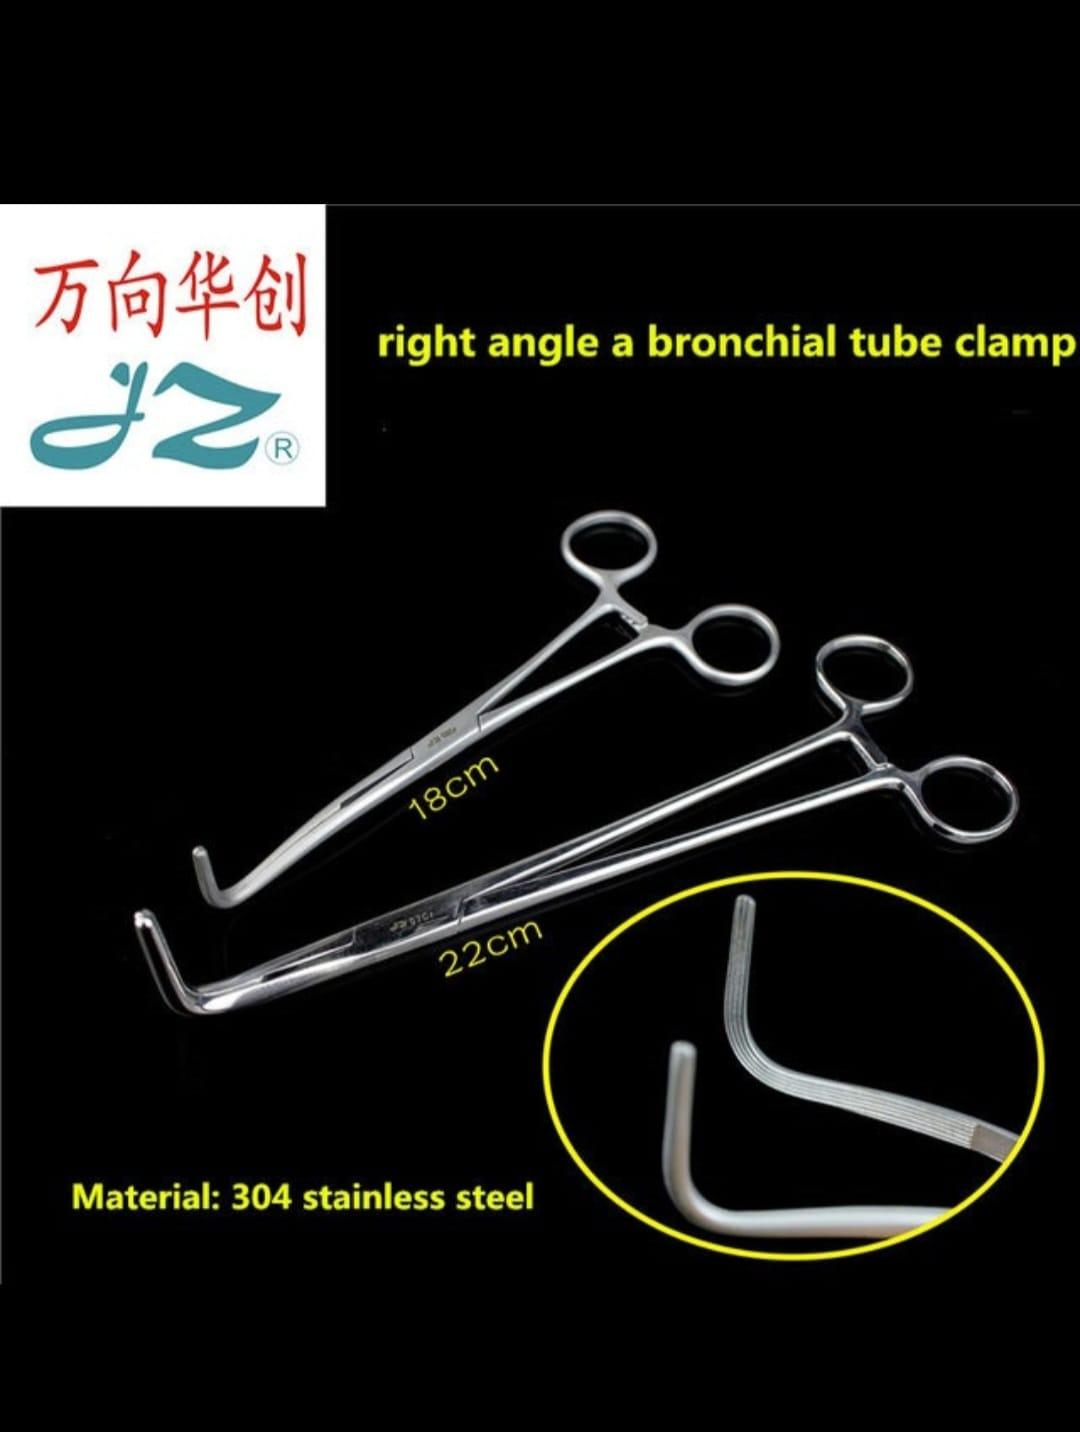Rectangle Cholecystectomy Forceps: (138, 627, 1018, 1038), (188, 496, 788, 913)
